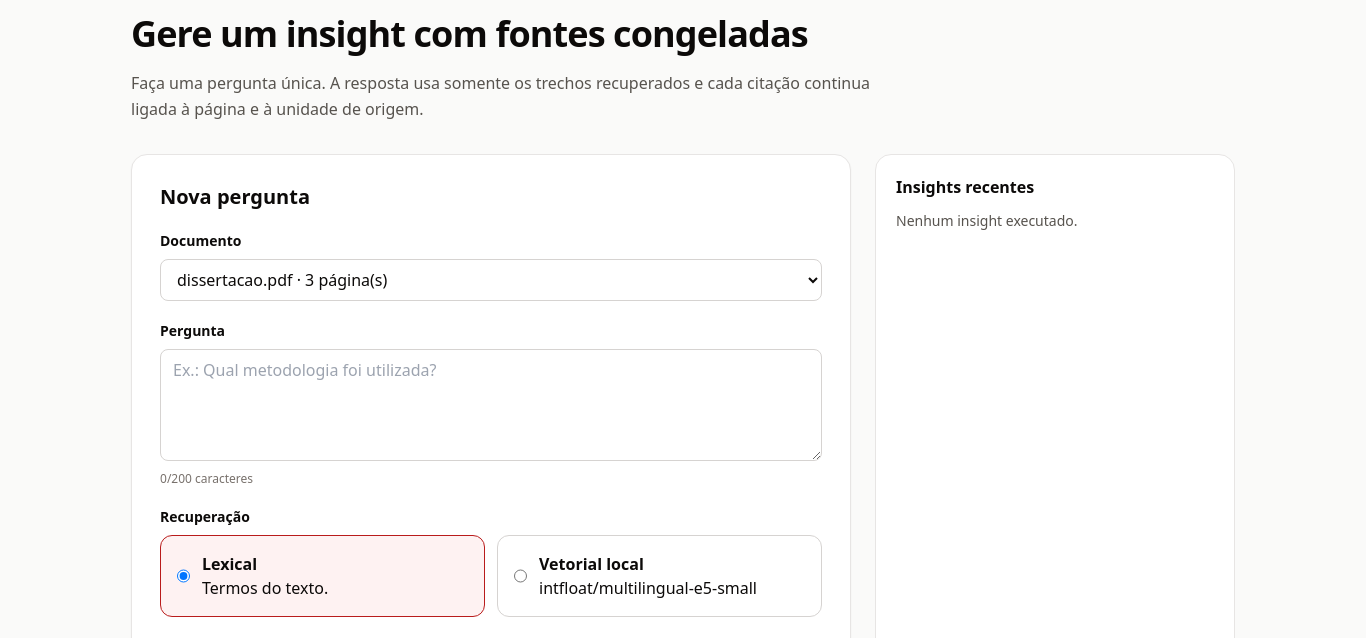
Insights › cria, acompanha e apresenta resposta com evidência congelada
Type "Qual metodologia foi utilizada?" into the text box labelled "Pergunta" at (491, 405), box [160,349,822,461]
(page scrolled)
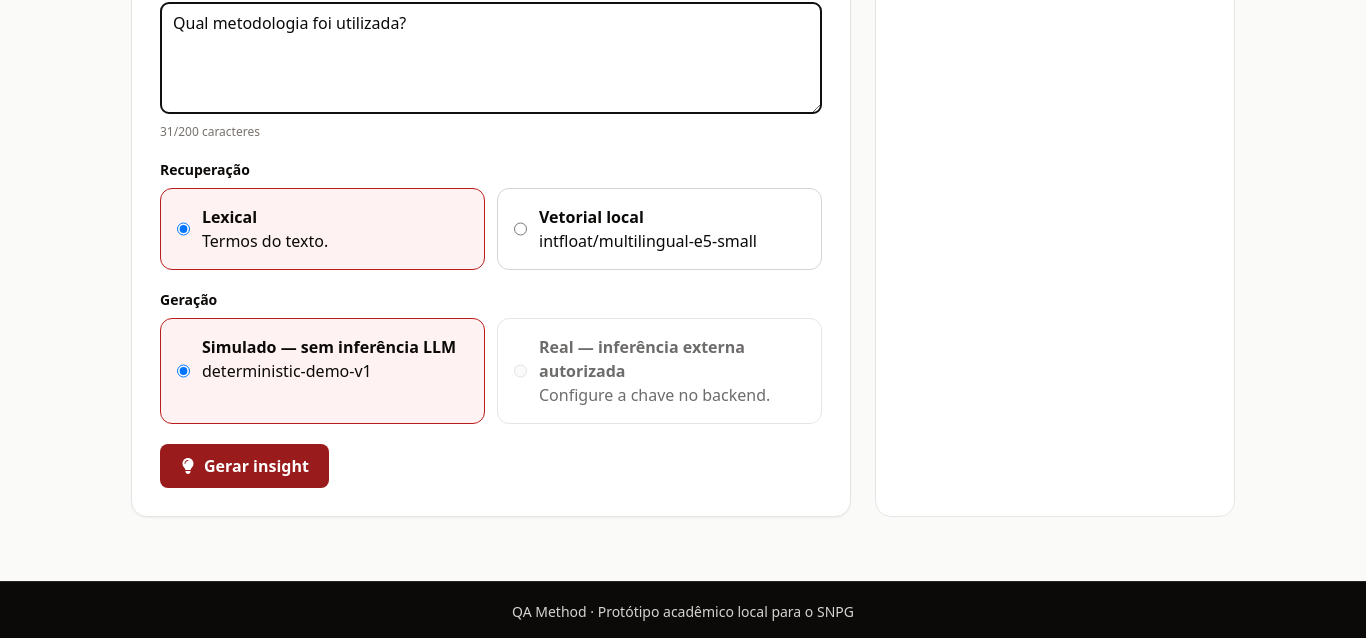
Click the button "Gerar insight" at (244, 466), box [160,444,329,488]
(page scrolled)
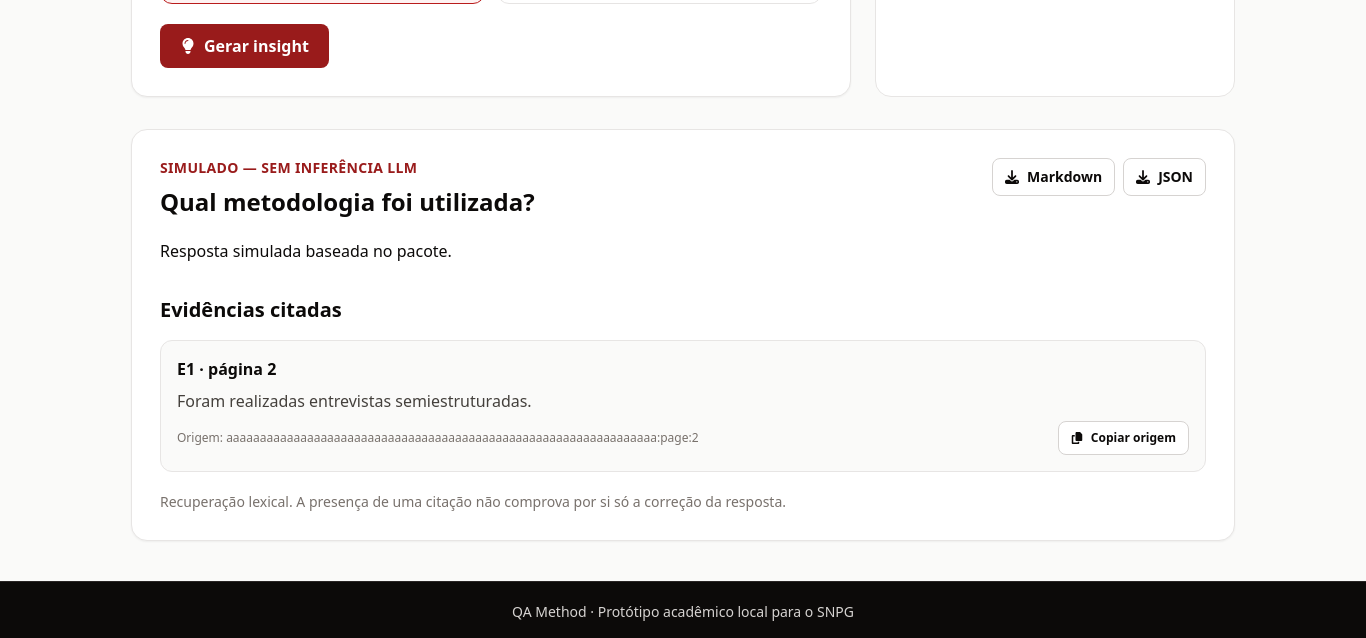
expect the text "Resposta simulada baseada no pacote." is shown: met, box [160,240,452,262]
expect the text "E1 · página 2" is shown: met, box [177,358,276,380]
expect the text "Foram realizadas entrevistas semiestruturadas." is shown: met, box [177,390,532,412]
Click the button "Copiar origem" at (1123, 438), box [1058,421,1189,455]
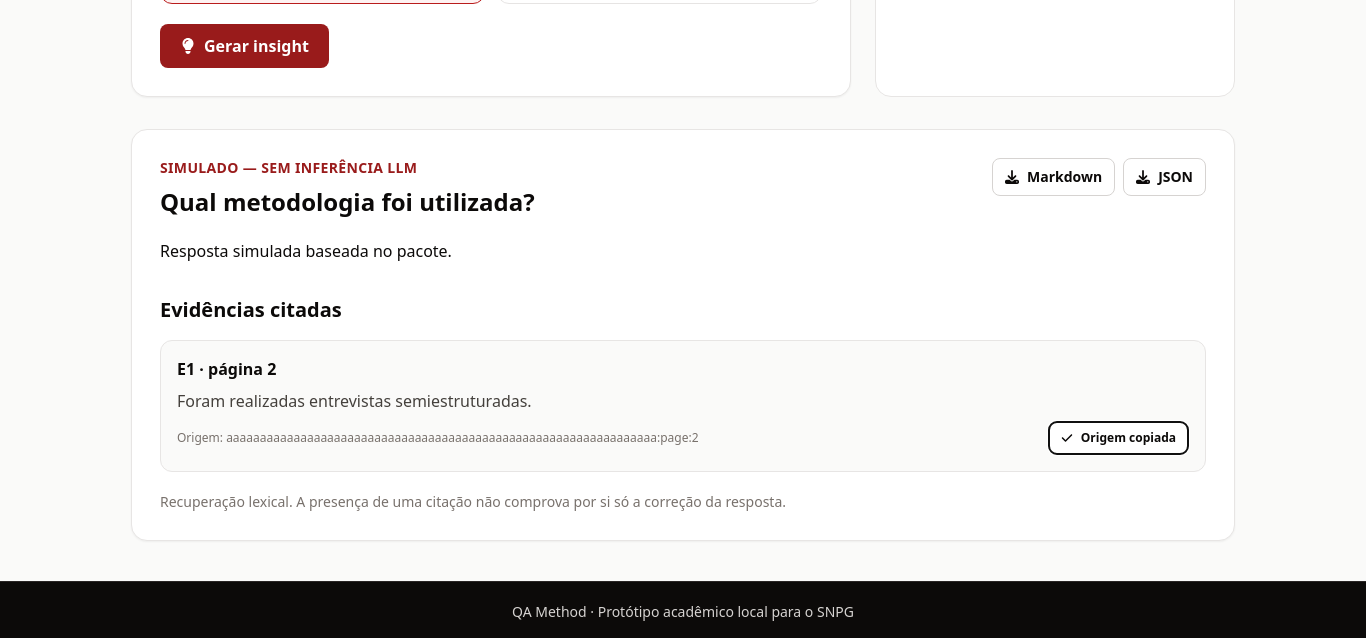
expect the button "Origem copiada" is shown: met, box [1048,421,1189,455]
